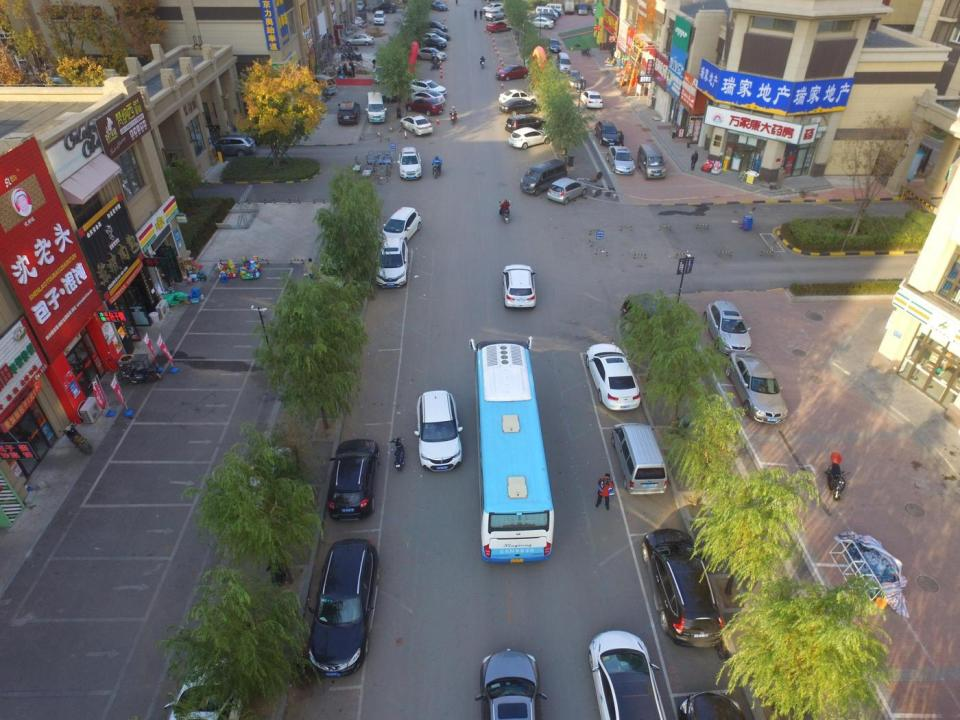bus: (468, 334, 556, 565)
car: (640, 527, 727, 650), (307, 538, 380, 678), (586, 628, 669, 720), (162, 654, 250, 720), (474, 648, 549, 720), (724, 348, 788, 428), (326, 438, 380, 523), (412, 388, 463, 473), (584, 343, 643, 411), (703, 299, 751, 356), (374, 235, 408, 289), (380, 206, 422, 245), (501, 263, 536, 309), (240, 463, 269, 518), (210, 133, 258, 158), (546, 177, 588, 205), (503, 84, 526, 135), (318, 254, 351, 289), (508, 126, 550, 150), (607, 144, 636, 176), (405, 96, 445, 117), (406, 78, 447, 98), (504, 113, 547, 132), (396, 147, 422, 178), (499, 98, 543, 116), (593, 119, 621, 147), (399, 114, 434, 136), (499, 88, 538, 105), (495, 63, 529, 81), (336, 100, 360, 125), (416, 32, 447, 50), (416, 46, 447, 62), (580, 90, 603, 109), (422, 27, 451, 42), (343, 33, 376, 46), (527, 10, 557, 23), (373, 59, 388, 84), (565, 70, 584, 88), (486, 20, 512, 33), (529, 16, 554, 29), (421, 20, 448, 32), (370, 3, 397, 14), (546, 37, 562, 54), (485, 9, 507, 21), (481, 2, 507, 12), (430, 1, 448, 12), (590, 1, 602, 15), (577, 1, 588, 16), (355, 0, 365, 10)
van: (610, 422, 670, 497), (519, 159, 568, 196), (636, 142, 666, 181), (365, 92, 387, 124), (309, 73, 338, 96), (556, 51, 573, 75), (534, 5, 559, 20), (542, 3, 564, 14), (372, 10, 387, 26)
